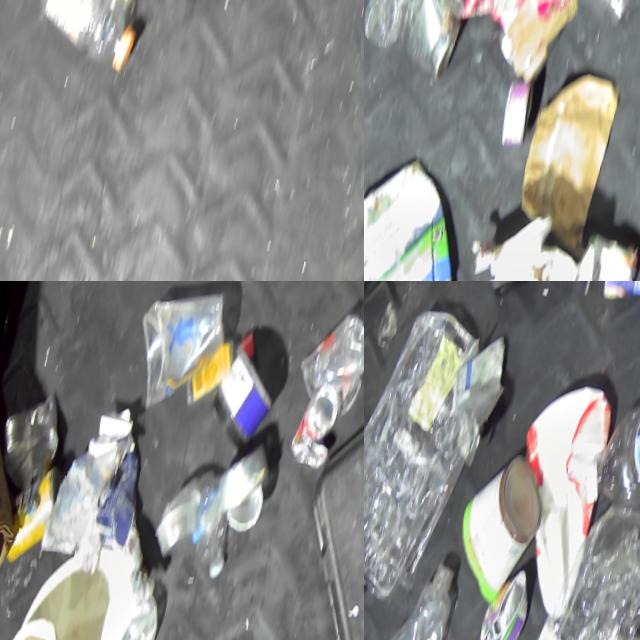can: (448, 445, 556, 610), (0, 387, 72, 500), (1, 459, 68, 572), (393, 0, 473, 85), (287, 380, 346, 473), (473, 564, 539, 640), (499, 75, 543, 151)
milk_jug: (489, 376, 621, 630)
non_white_jug: (468, 281, 551, 307)
plastic_bottle: (579, 345, 640, 533), (27, 0, 153, 74), (364, 552, 465, 640), (183, 479, 244, 586), (88, 0, 165, 53)
